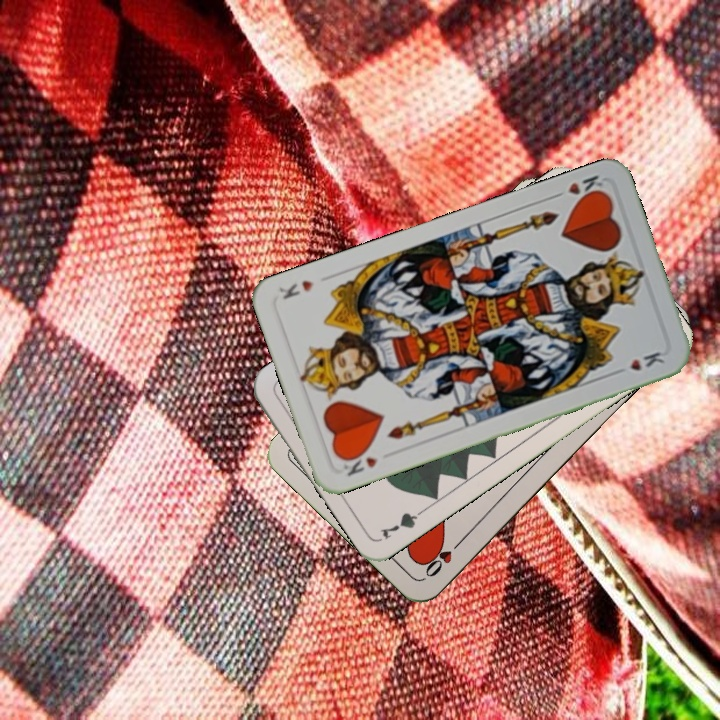G7: (376, 502, 431, 542)
HK: (548, 171, 609, 205), (338, 446, 381, 479)
HO: (420, 534, 467, 580)
